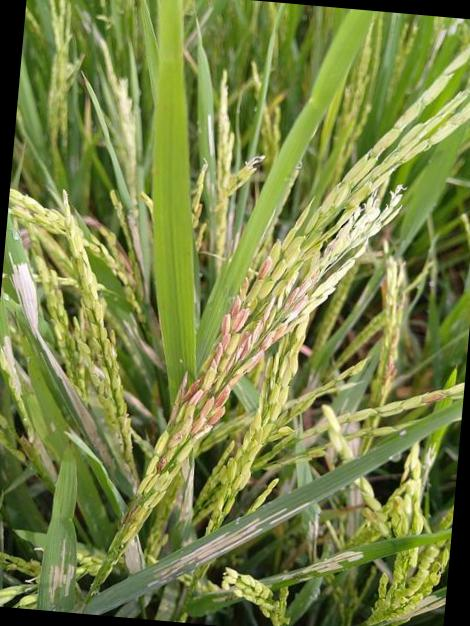Leaf Streak: (149, 501, 311, 587), (262, 552, 362, 586), (50, 537, 76, 604), (389, 595, 446, 622), (206, 114, 215, 160)
Panicle Blight: (259, 324, 287, 352), (232, 332, 253, 362), (183, 376, 204, 402), (286, 296, 308, 319), (250, 317, 264, 353), (206, 405, 227, 428), (120, 504, 140, 527), (166, 398, 180, 429), (177, 372, 189, 408), (231, 310, 249, 334), (220, 313, 233, 346), (296, 275, 314, 298), (262, 297, 276, 326), (211, 342, 224, 373), (199, 396, 215, 420), (230, 293, 244, 320), (248, 350, 265, 372), (258, 257, 272, 280), (216, 387, 230, 409), (283, 288, 298, 308), (189, 389, 205, 407), (191, 416, 204, 436), (167, 433, 183, 449), (229, 374, 245, 390), (94, 363, 107, 382), (194, 425, 213, 437), (225, 354, 236, 372), (239, 280, 249, 299), (156, 458, 166, 475), (195, 203, 203, 219), (84, 318, 90, 329)
